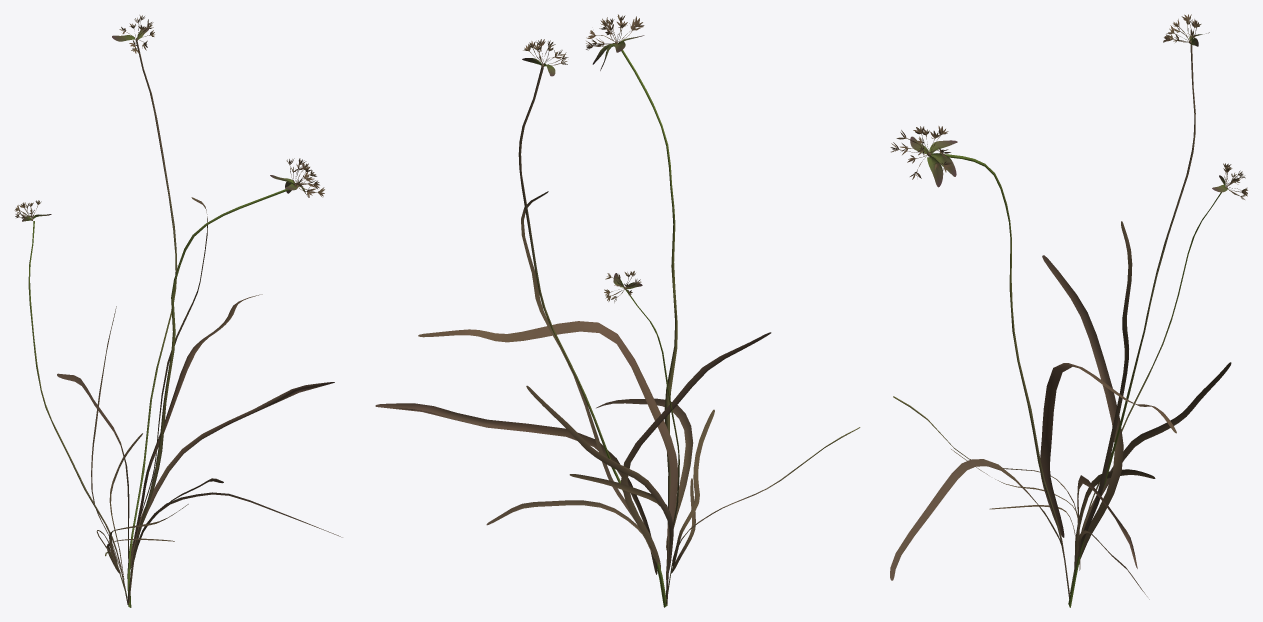
File: Herb_JapaneseKnotweed.glb
The picture shows the model from 3 angles, left to right: view 1: azimuth 30°, elevation 25°; view 2: azimuth 150°, elevation 25°; view 3: azimuth 270°, elevation 25°; orthographic projection. The views are drawn at different scales.
Parts seen in each view (by area): view 1: Herb_JapaneseKnotweed; view 2: Herb_JapaneseKnotweed; view 3: Herb_JapaneseKnotweed.
Part boxes in pixels (x1,y1,x2,y2): Herb_JapaneseKnotweed: [14, 15, 342, 607]; Herb_JapaneseKnotweed: [375, 14, 860, 607]; Herb_JapaneseKnotweed: [890, 14, 1247, 607].
Size of the model in its own units: 1.44 by 2.2 by 1.15.
Materials: 3 (3 with a texture image).
